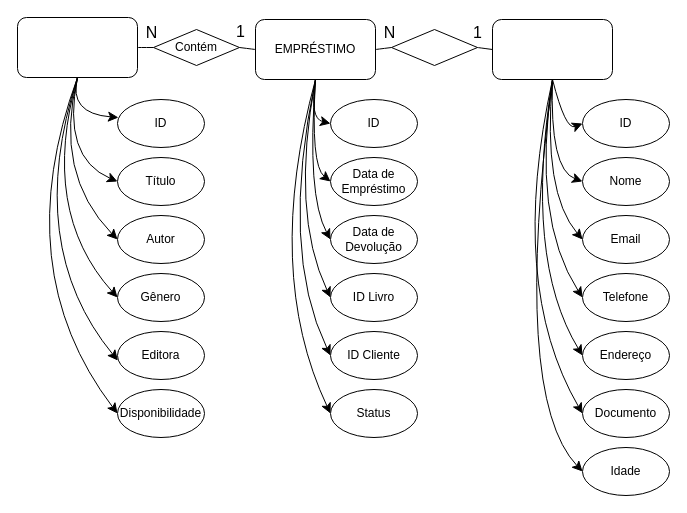
Image size: 687x513. Some labels were removed from this diagram. The centre of each missing label's shape, as x and y in pixels:
LIVRO: point (77, 47)
Realiza: point (434, 47)
USUÁRIO: point (552, 49)
